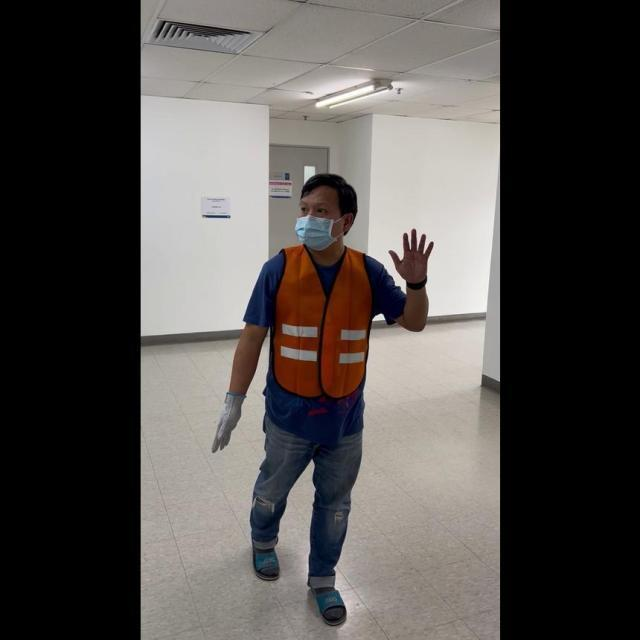bare_hand: (386, 224, 432, 287)
gloved_hand: (211, 386, 246, 453)
